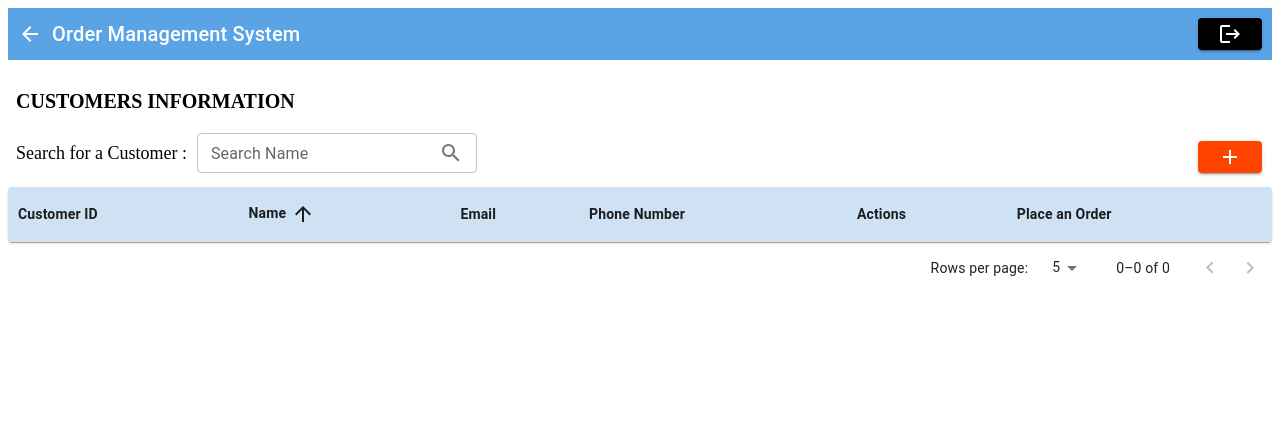
Test: Customer Component › sorts customers in descending order
The image size is (1280, 423).
Click the button named "sort" at (303, 214), box [286, 197, 320, 231]
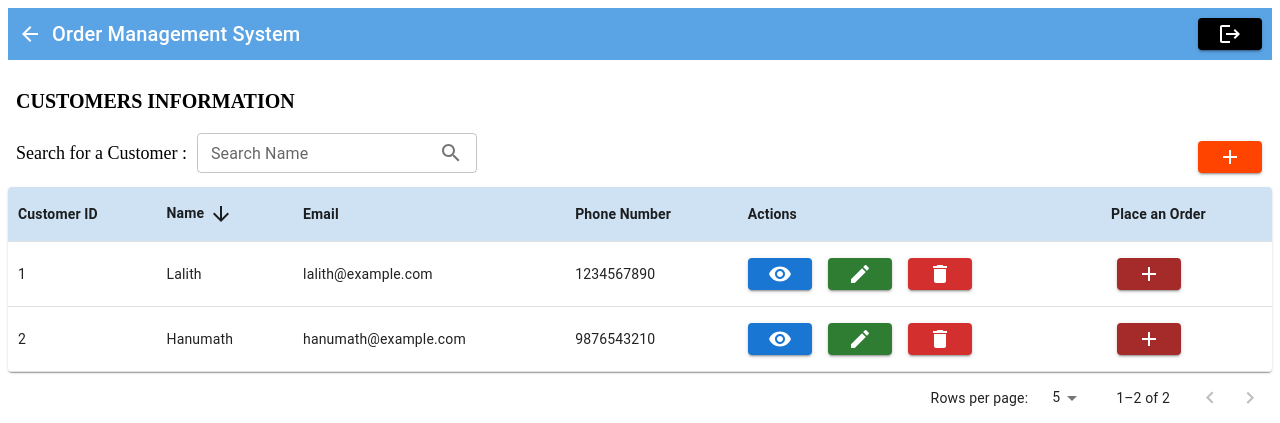
Result: the text "Hanumath" is shown at [157, 306, 293, 372]
Result: the text "Lalith" is shown at [157, 242, 293, 306]
